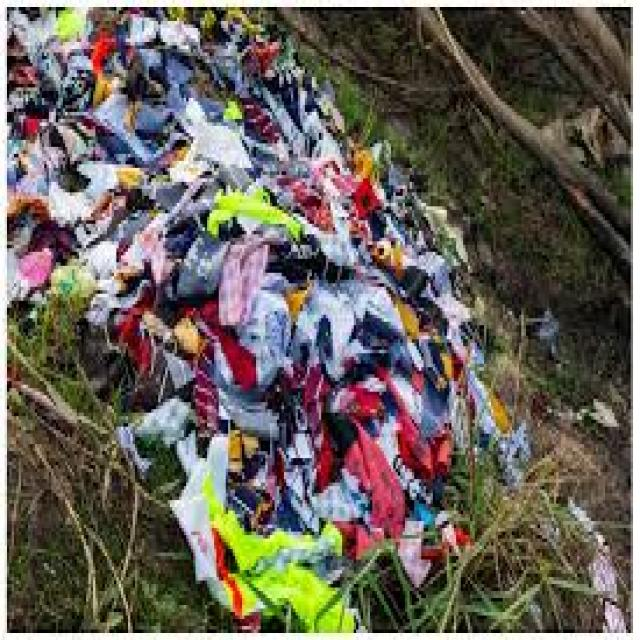Clothes -Biodegradable-: (3, 6, 523, 637)
